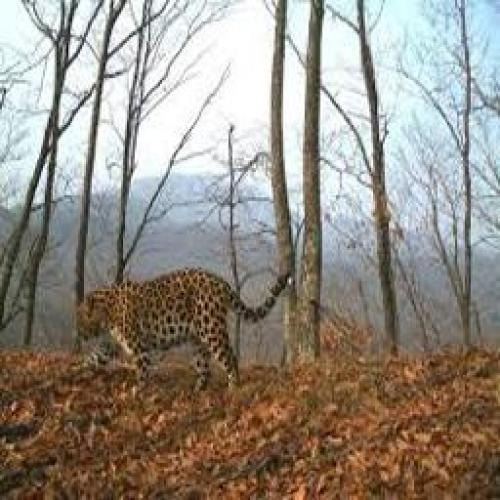amur_leopard-endangered: (74, 268, 292, 392)
